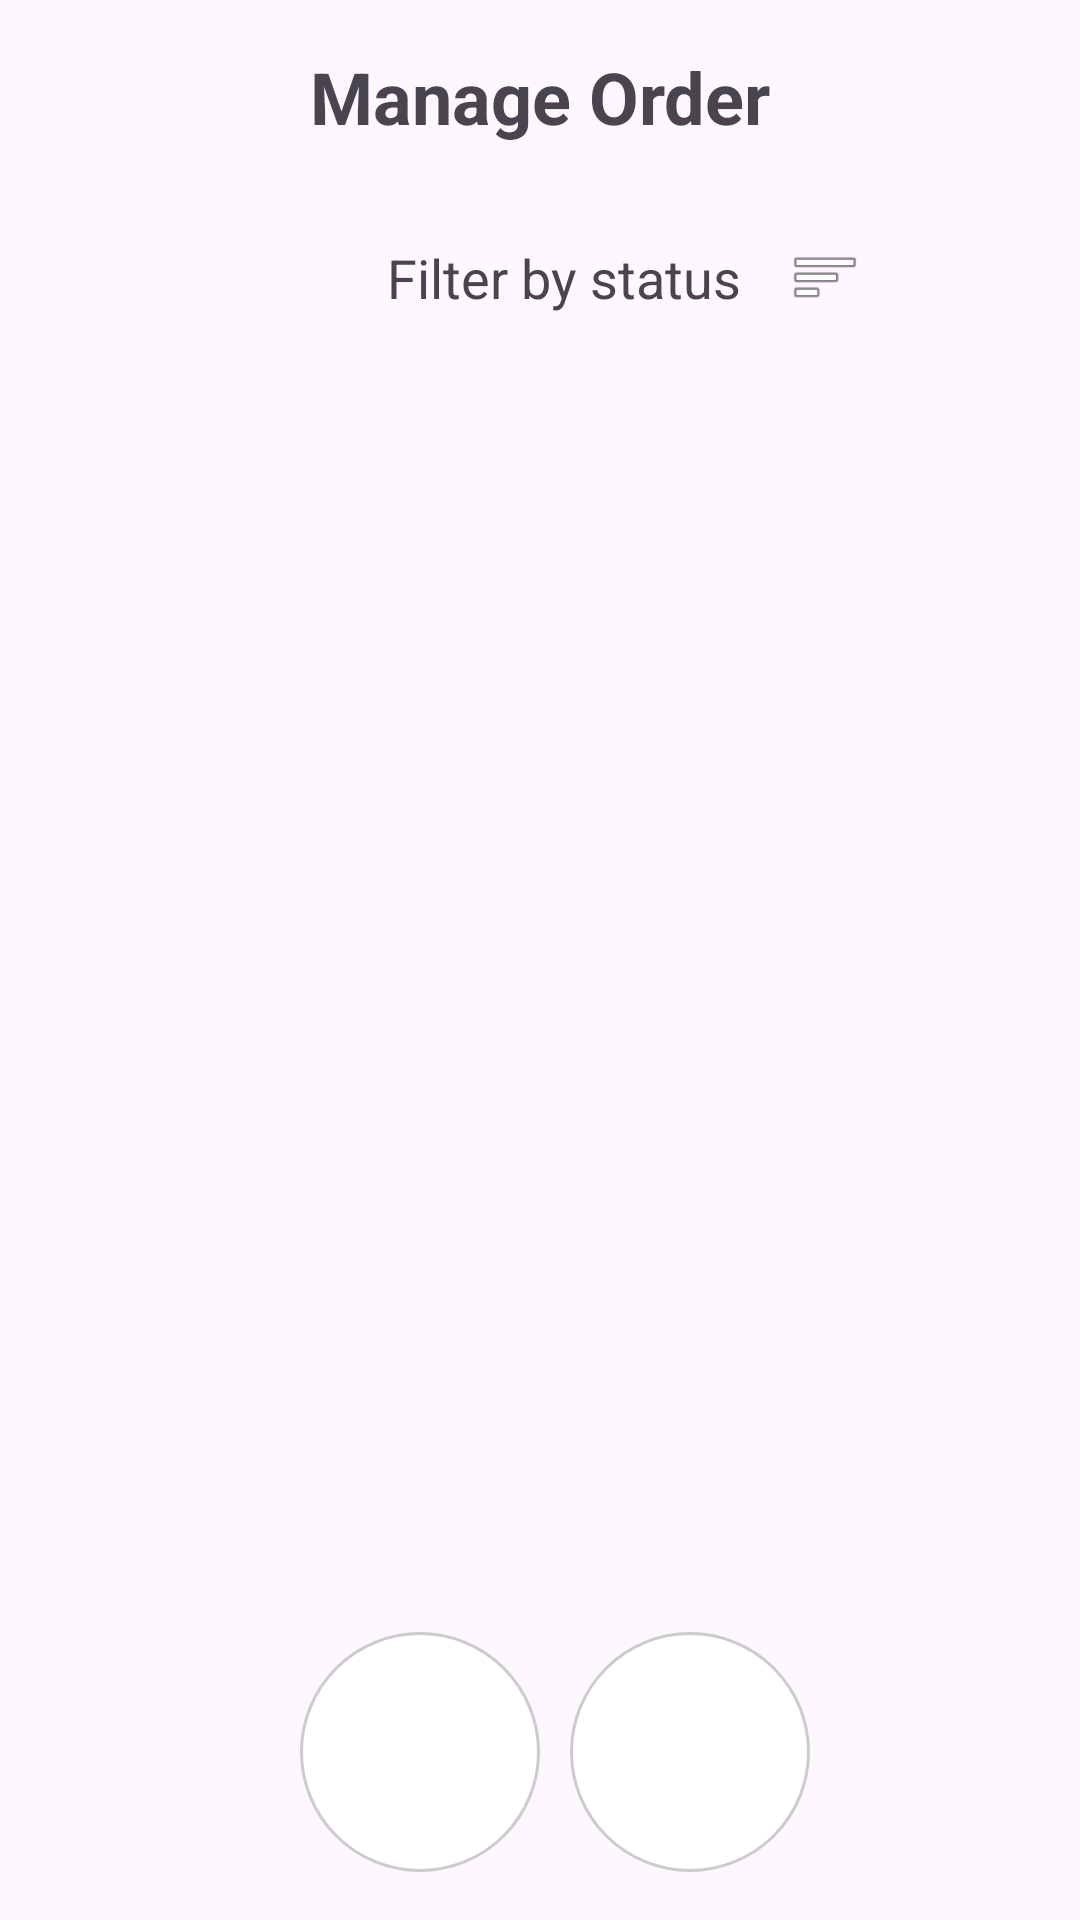

Where icons sit on this 1080px×1920px app screen, as (x1, y1, x2, y2):
sort by size: (794, 257, 856, 298)
